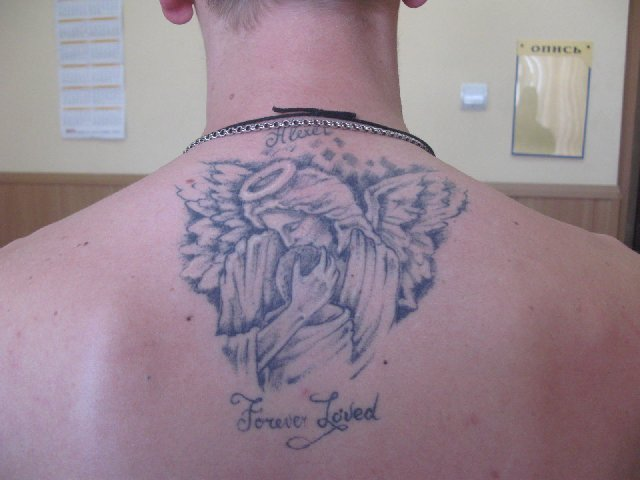tatu1_angel: (177, 158, 480, 388)
tatu3_bukva: (215, 388, 401, 454), (263, 124, 343, 150)
